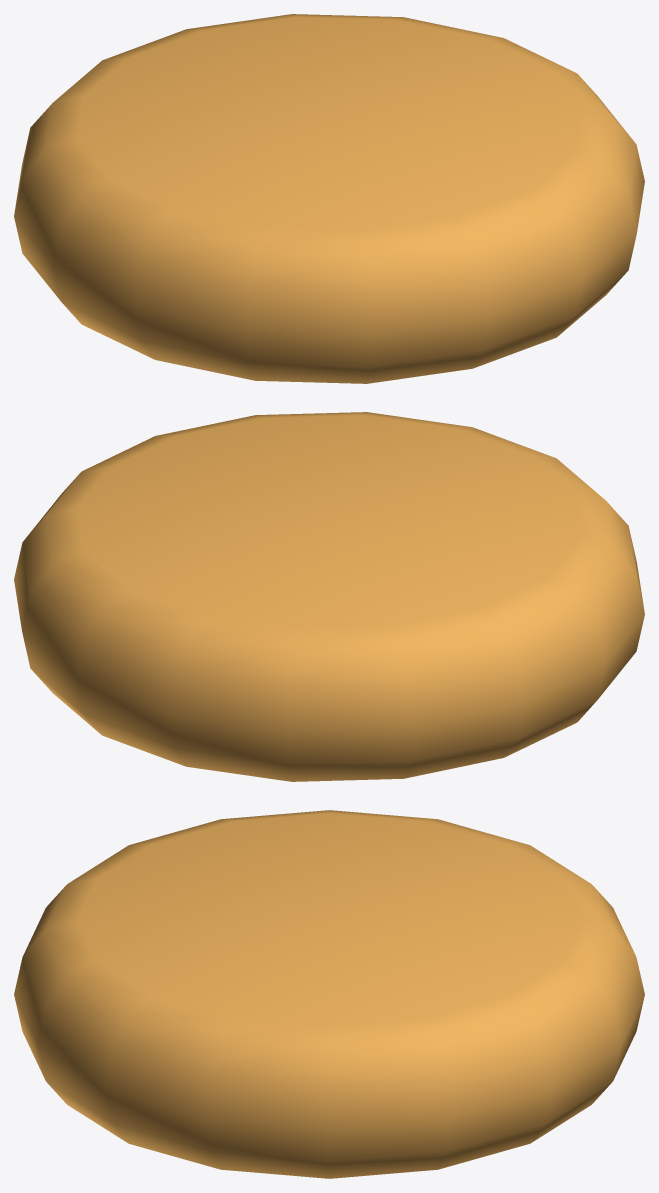
File: FlatCircle_02.fbx
3 views of the same model, one above another, from view 1: azimuth 30°, elevation 25°; view 2: azimuth 150°, elevation 25°; view 3: azimuth 270°, elevation 25° (orthographic).
Parts seen in each view (by area): view 1: FlatCircle_02; view 2: FlatCircle_02; view 3: FlatCircle_02.
Boxes of the visible parts, x1=… form: FlatCircle_02: x1=14, y1=14, x2=644, y2=383; FlatCircle_02: x1=14, y1=412, x2=644, y2=781; FlatCircle_02: x1=14, y1=810, x2=644, y2=1178.
Size of the model in its own units: 375 by 97.5 by 375.
